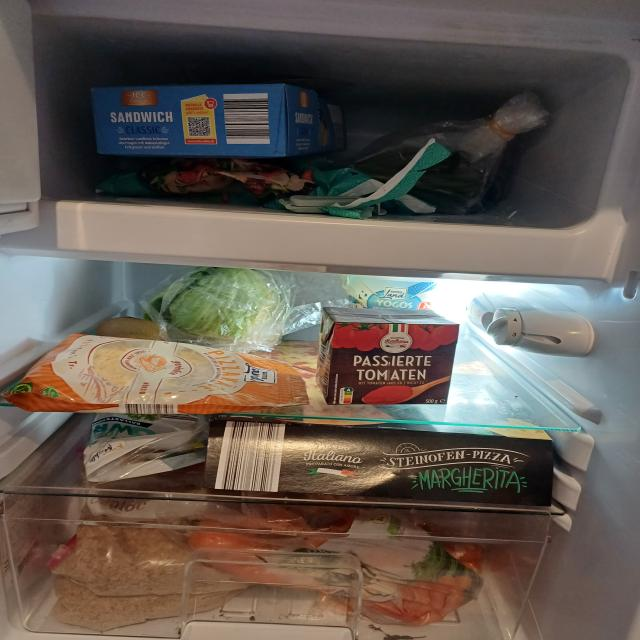Cheese: (20, 334, 302, 422)
Icecream: (78, 82, 347, 163)
Pizza: (212, 415, 558, 512)
Plastic bag: (42, 490, 218, 626), (369, 92, 545, 212), (92, 162, 440, 220)
Tomato Puree: (318, 300, 455, 411)
Tortilla: (81, 416, 203, 479)
Yogurt: (344, 271, 458, 318)
cabbage: (157, 268, 287, 349)
carrot: (203, 502, 477, 622)
kiwi: (97, 316, 177, 345)
